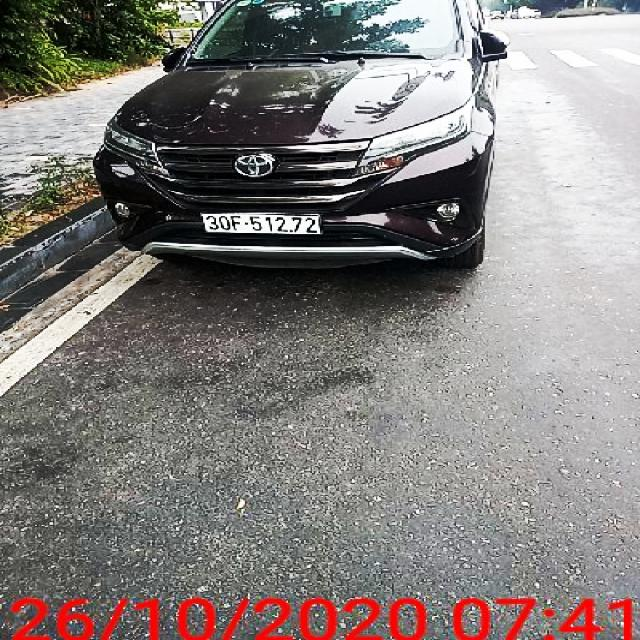license_plate: (203, 215, 323, 236)
